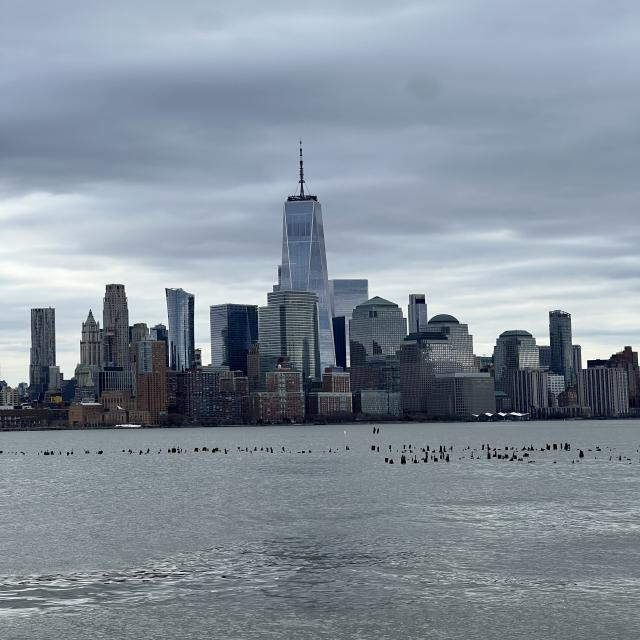WTC: (279, 136, 328, 297)
